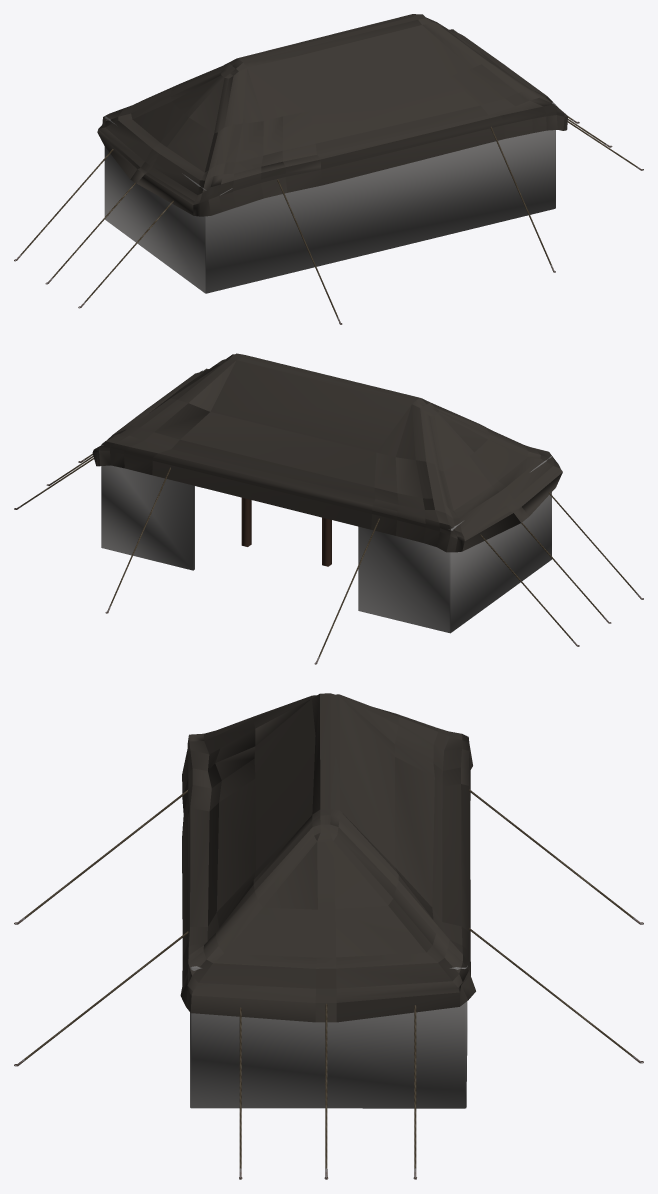
Rendered from tent-large.zfix-v1.lod0.glb.
The picture shows the model from 3 angles, top to bottom: view 1: azimuth 30°, elevation 25°; view 2: azimuth 150°, elevation 25°; view 3: azimuth 270°, elevation 25°; orthographic projection. The views are drawn at different scales.
Visible parts, largest first — view 1: defaultMaterial (×2); view 2: defaultMaterial (×2); view 3: defaultMaterial (×2).
Part boxes in pixels (bbox=[...]): defaultMaterial (×2): bbox=[14, 14, 643, 324]; defaultMaterial (×2): bbox=[14, 353, 643, 664]; defaultMaterial (×2): bbox=[14, 693, 643, 1179].
Size of the model in its own units: 10 by 3.18 by 7.1.
3 materials, 2 textured.
